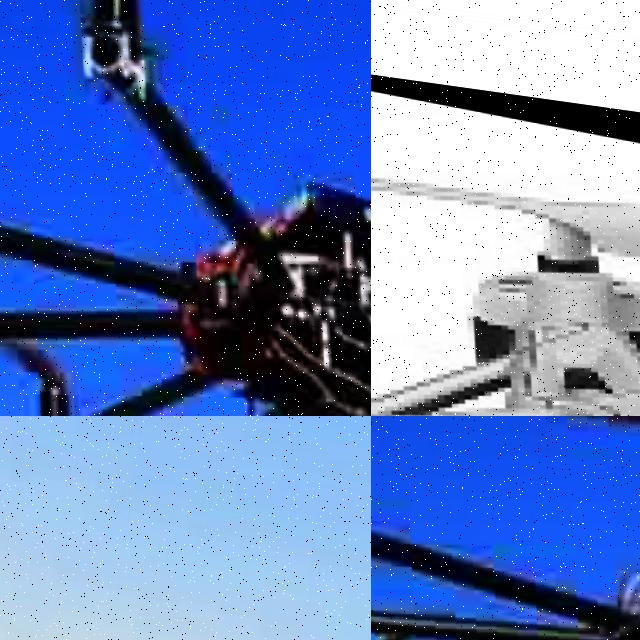drone: (0, 0, 371, 416), (371, 31, 640, 416), (371, 416, 640, 640)
